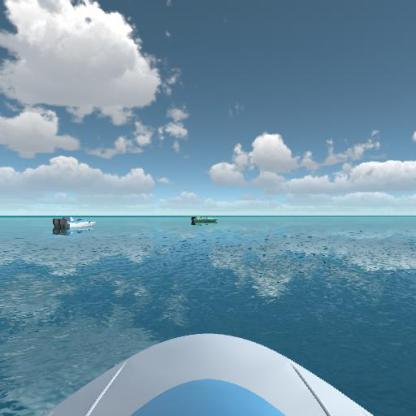usv0: (190, 211, 221, 227)
usv1: (47, 210, 97, 235)
